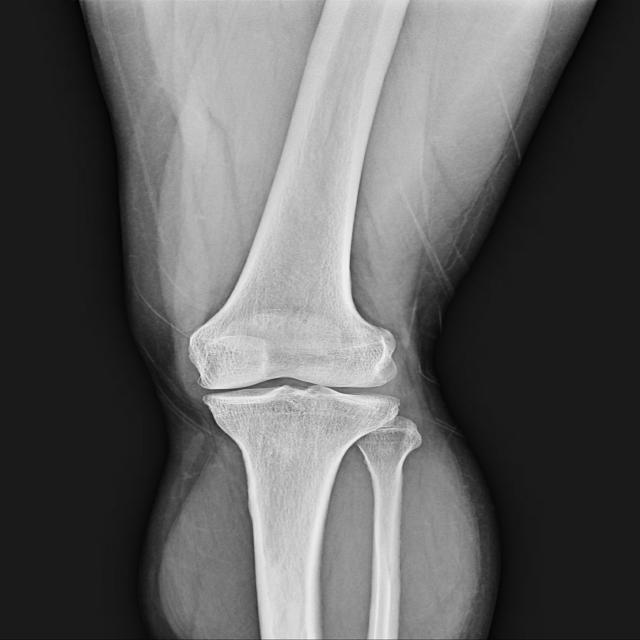normal: (183, 316, 408, 416)
